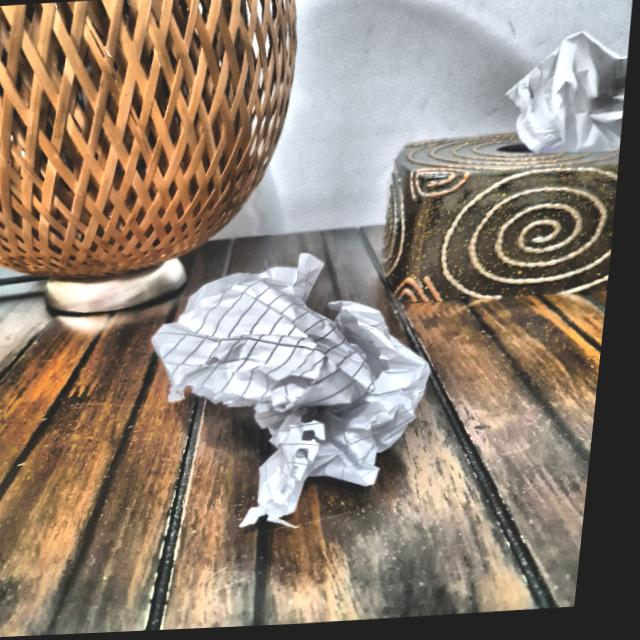Paper: (153, 261, 447, 507)
